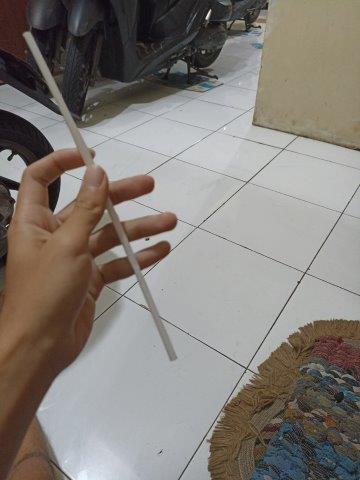sedotan: (23, 32, 174, 357)
